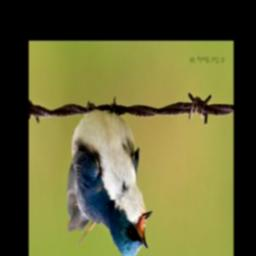Swallow: (67, 98, 155, 256)
